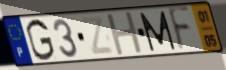3: (52, 17, 80, 59)
F: (166, 5, 192, 55)
G: (24, 18, 56, 62)
H: (105, 10, 145, 58)
M: (138, 10, 178, 54)
Z: (79, 15, 117, 57)
